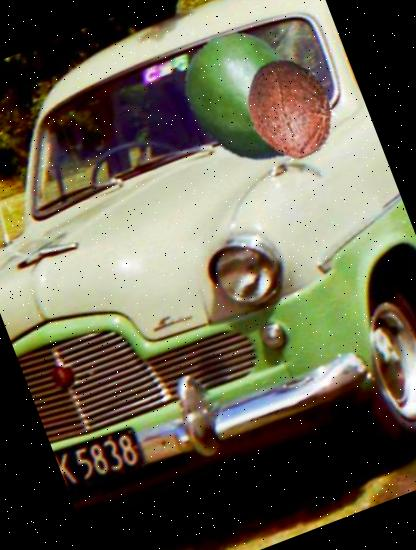Cocos: (222, 41, 356, 175)
Mango: (154, 11, 332, 188)
